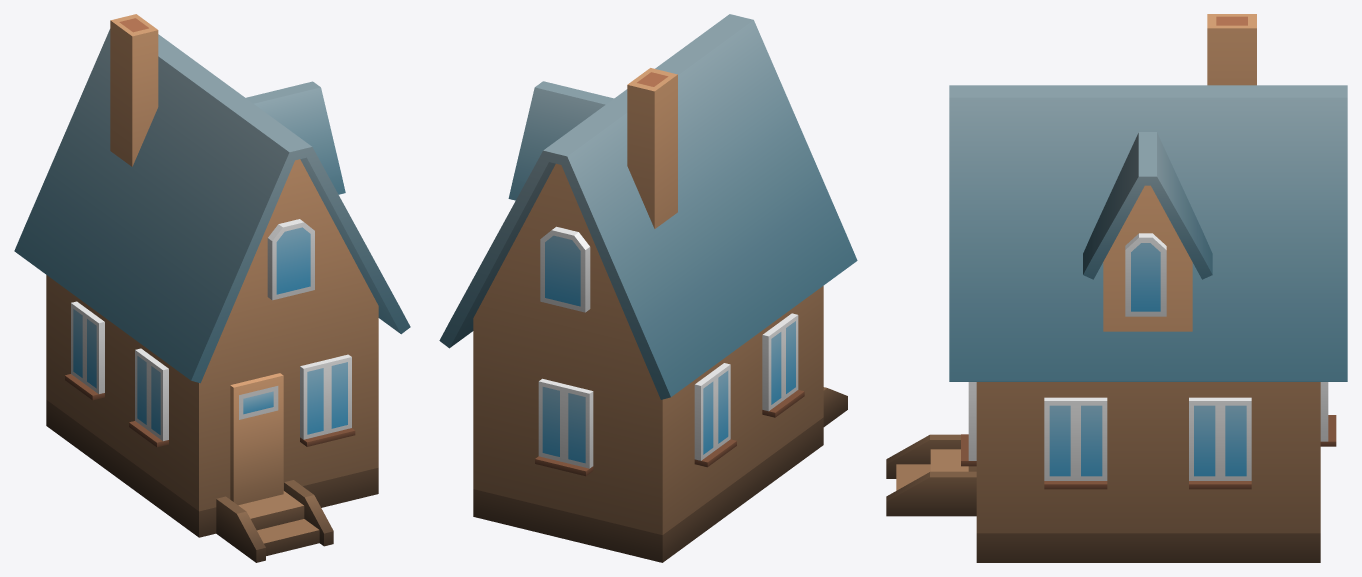
The model's file is small house with barn.fbx.
3 renders of one model, left to right at view 1: azimuth 30°, elevation 25°; view 2: azimuth 150°, elevation 25°; view 3: azimuth 270°, elevation 25°, orthographic. The views are drawn at different scales.
Visible parts, largest first — view 1: small_house_with_barn; view 2: small_house_with_barn; view 3: small_house_with_barn.
Part boxes in pixels (box(x1,y1,x2,y2)): small_house_with_barn: box(14, 14, 410, 562); small_house_with_barn: box(439, 14, 857, 562); small_house_with_barn: box(886, 14, 1347, 562).
Size of the model in its own units: 403 by 733 by 652.
Materials: 1 (1 with a texture image).
